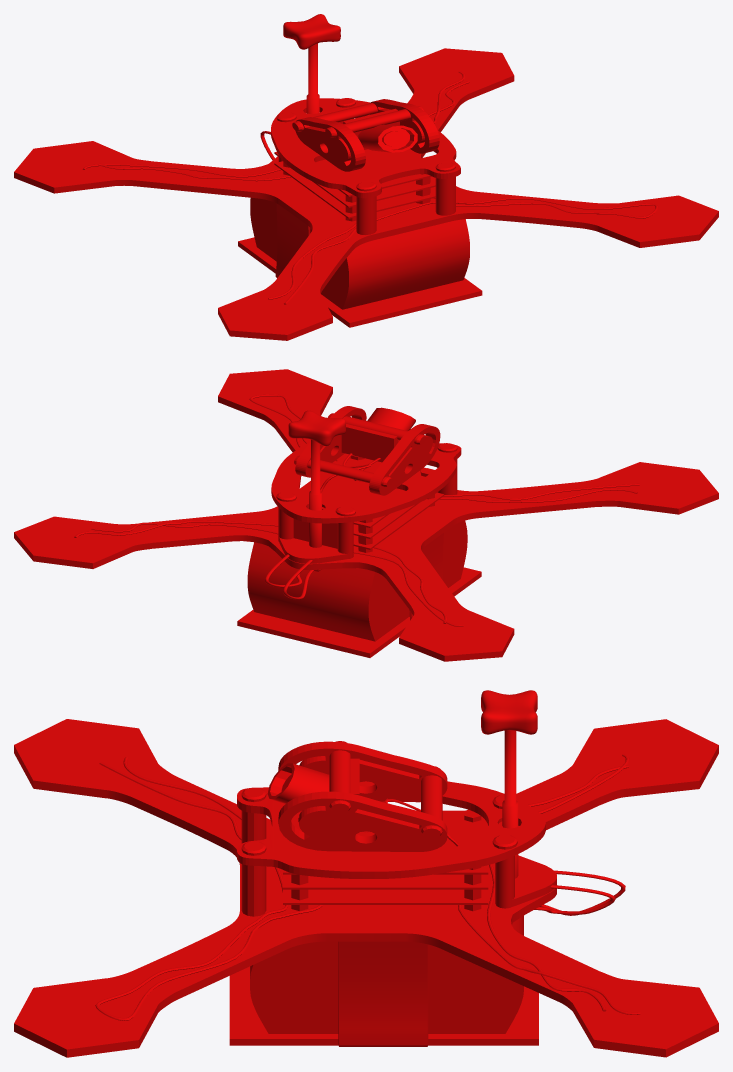
Rendered from bodycrveni.fbx.
3 views of the same model, one above another, from view 1: azimuth 30°, elevation 25°; view 2: azimuth 150°, elevation 25°; view 3: azimuth 270°, elevation 25° (orthographic). The views are drawn at different scales.
Parts seen in each view (by area): view 1: Drone; view 2: Drone; view 3: Drone.
Part boxes in pixels (x1=…): Drone: x1=14, y1=14, x2=718, y2=340; Drone: x1=14, y1=369, x2=718, y2=661; Drone: x1=14, y1=690, x2=718, y2=1057.
Bounding box in the file's own units: 594 × 254 × 535.
